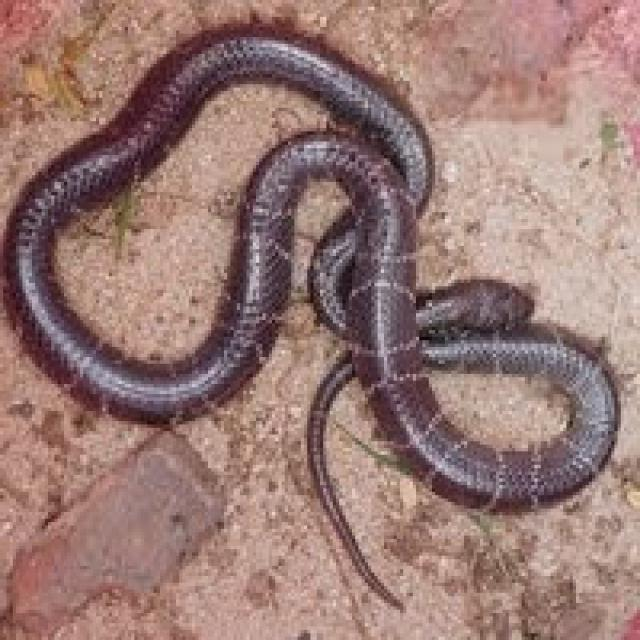Snake: (0, 17, 621, 610)
